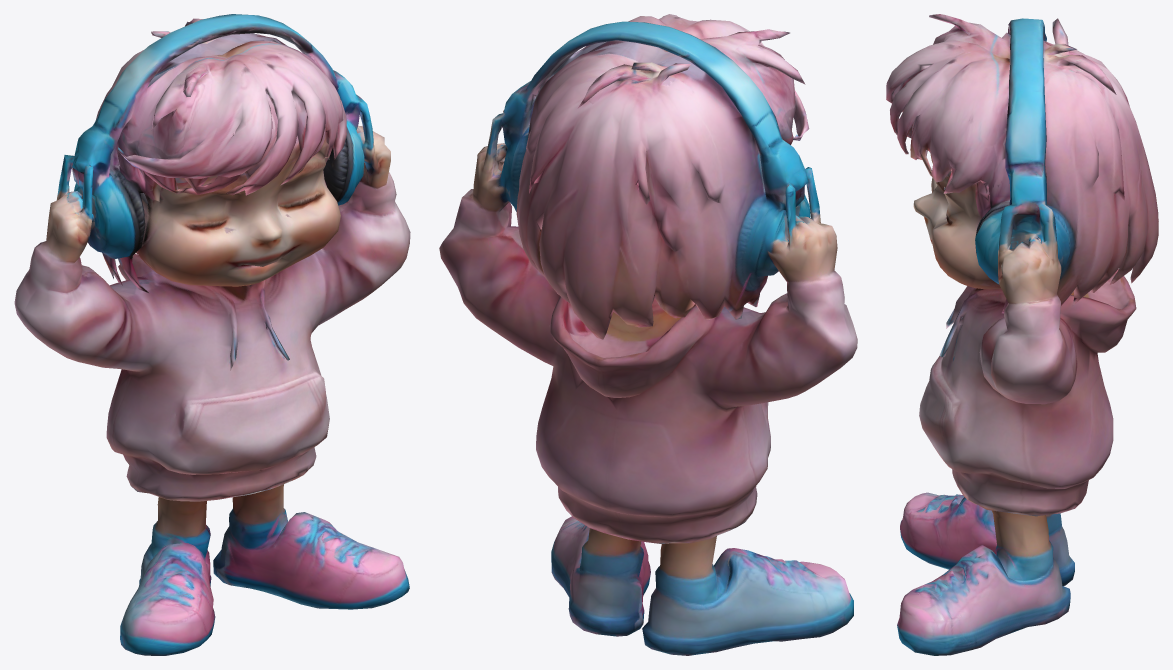
Rendered from girl2.glb.
3 renders of one model, left to right at view 1: azimuth 30°, elevation 25°; view 2: azimuth 150°, elevation 25°; view 3: azimuth 270°, elevation 25°, orthographic. The views are drawn at different scales.
Bounding box in the file's own units: 1.42 × 2 × 0.8849.
1 material, 1 textured.
